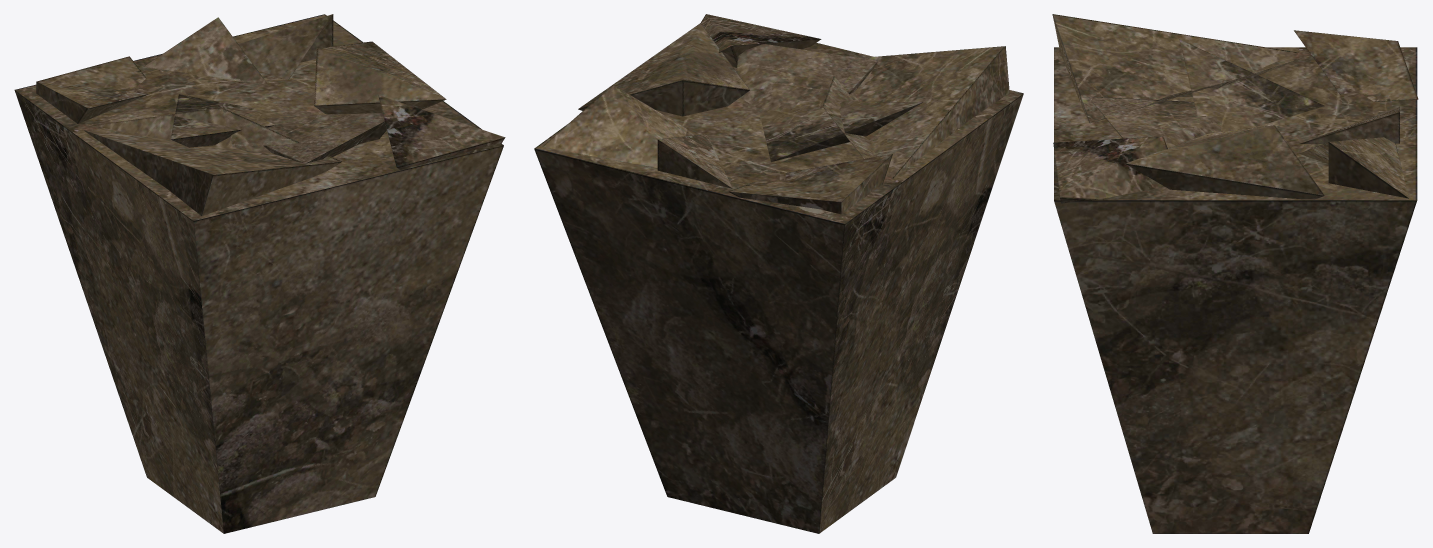
3 renders of one model, left to right at view 1: azimuth 30°, elevation 25°; view 2: azimuth 150°, elevation 25°; view 3: azimuth 270°, elevation 25°, orthographic.
Visible parts, largest first — view 1: Island3; view 2: Island3; view 3: Island3.
Boxes of the visible parts, <box> form: Island3: <box>14,14,505,533</box>; Island3: <box>534,14,1023,533</box>; Island3: <box>1052,14,1418,533</box>.
Size of what is drawn, in the model's own units: 1123 by 1397 by 1116.
1 material, 1 textured.
